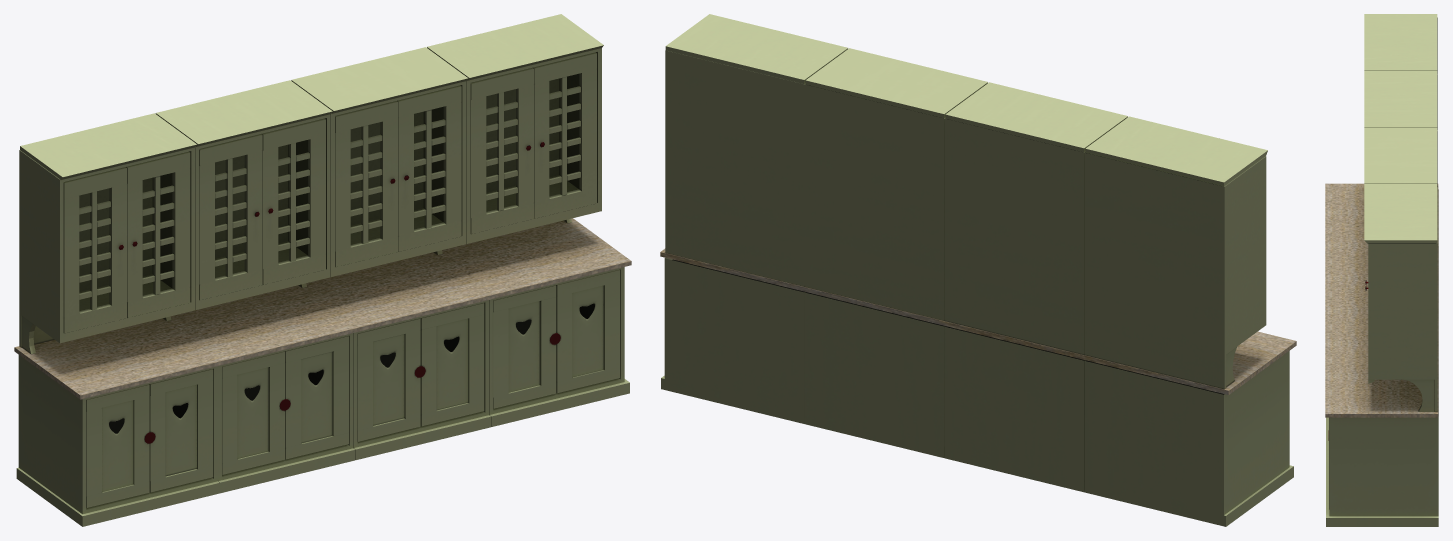
3 views of the same model, side by side, from view 1: azimuth 30°, elevation 25°; view 2: azimuth 150°, elevation 25°; view 3: azimuth 270°, elevation 25° (orthographic). The views are drawn at different scales.
Visible parts, largest first — view 1: cupboard; view 2: cupboard; view 3: cupboard.
Boxes of the visible parts, bbox=[...] form: cupboard: bbox=[14, 14, 631, 526]; cupboard: bbox=[660, 14, 1296, 526]; cupboard: bbox=[1325, 14, 1438, 526].
Bounding box in the file's own units: 6.76 × 3.9 × 1.41.
Materials: 1 (1 with a texture image).
